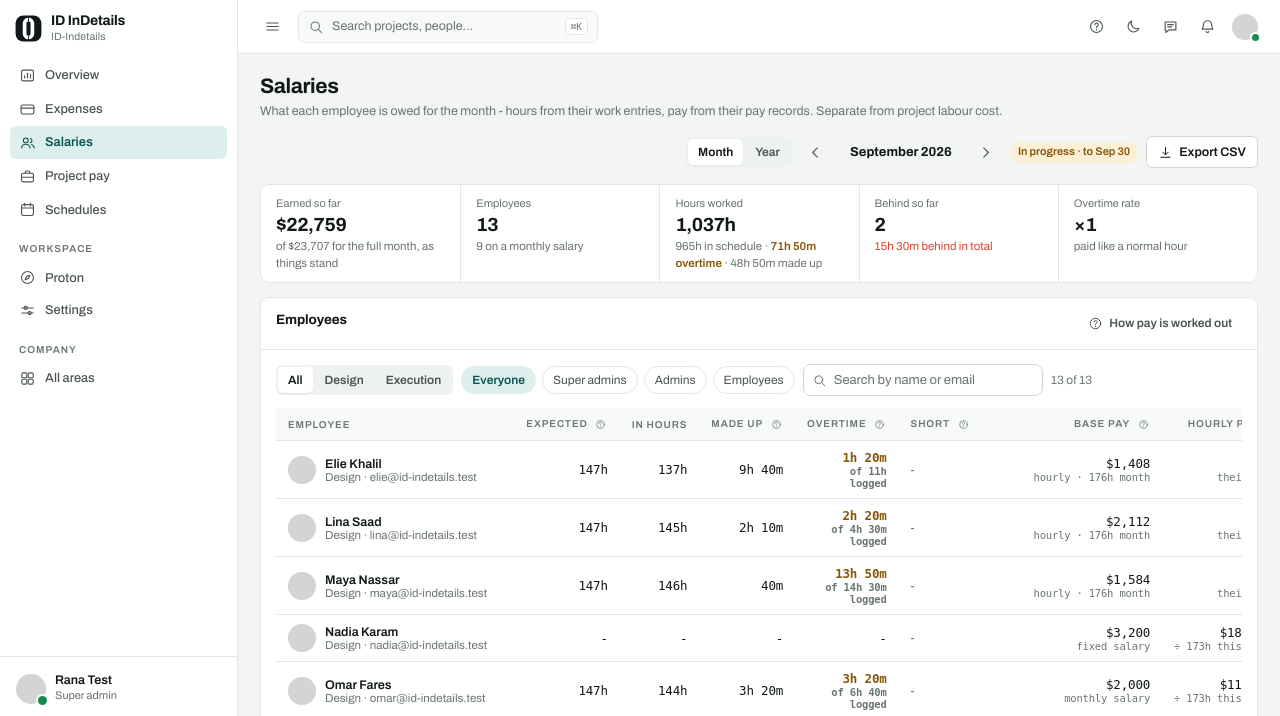
Scenario: Salaries › show a whole year, person by person and month by month, and open a month from it
Expected: the text "Elie Khalil" is shown, [325,457,382,471]
Click the tab "Year".
click(768, 152)  # box [745,139,790,165]
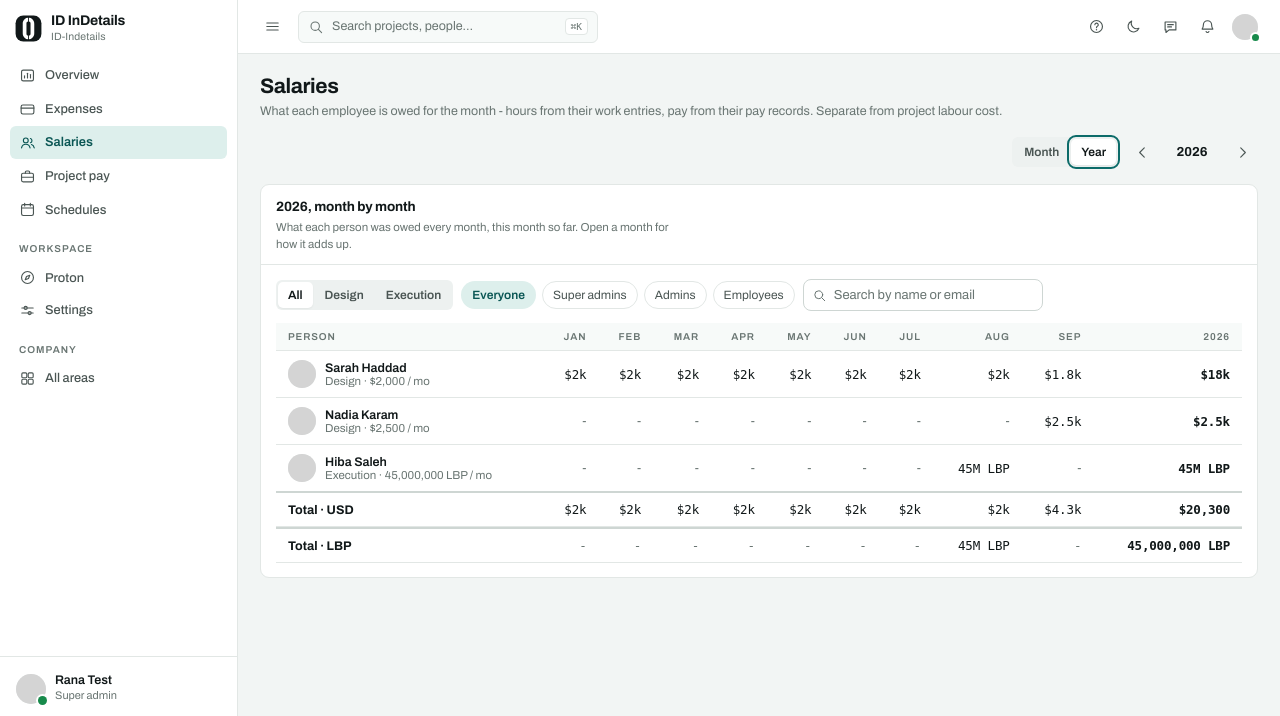
Expected: the column heading "Sep" is shown, [1022,323,1093,351]
Expected: the button named "Next year" is disabled, [1226,136,1258,168]
Expected: the text "Total · USD" shows "$20,300", [1179,502,1230,517]
Click the button named "Sarah Haddad, 2026-08".
click(977, 375)  # box [933,351,1022,398]
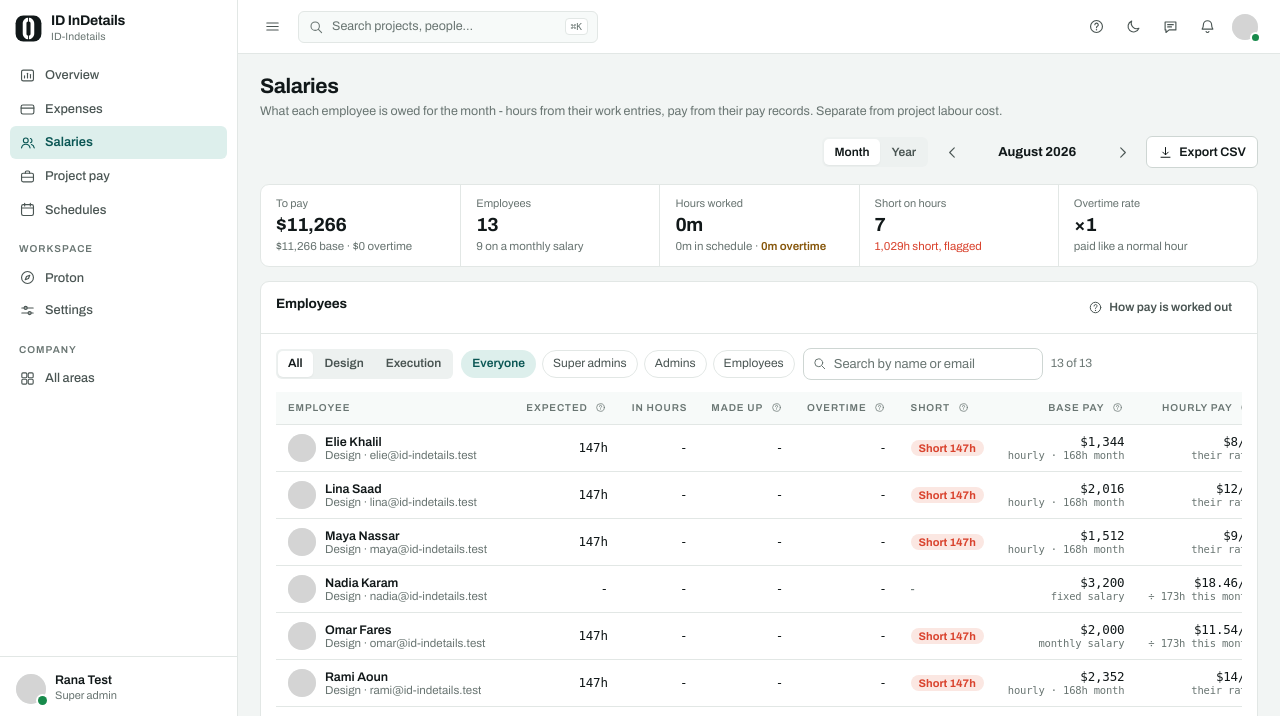
Expected: the text "August 2026" is shown, [998,145,1076,159]
Expected: the text "Short on hours" is shown, [875,197,946,209]
